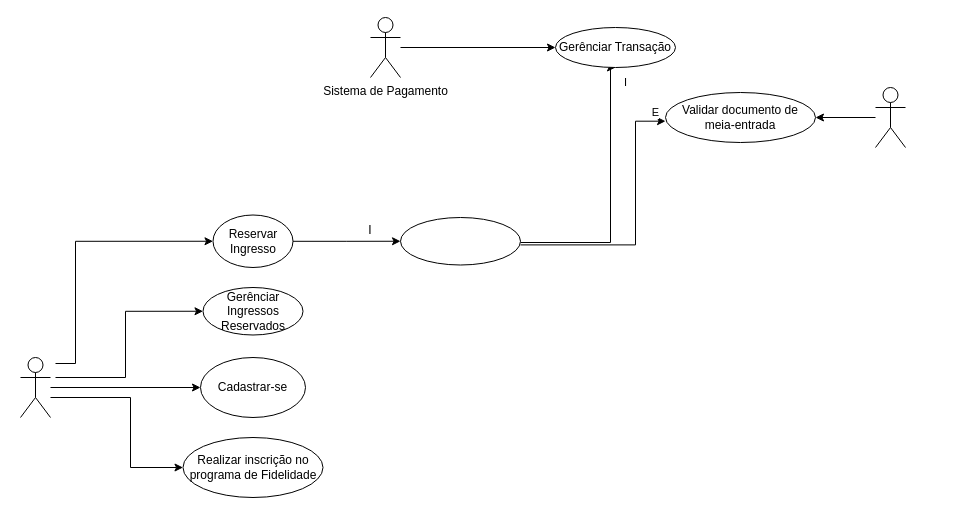
This 975x515 diagram has some shape labels left out. Here are the shapes that lost their labels. From the top down, the centre of each, then its label:
At pixel 890 117: "Validador de documentos".
At pixel 460 240: "Validar programa fidelidade".
At pixel 35 387: "Cliente".
